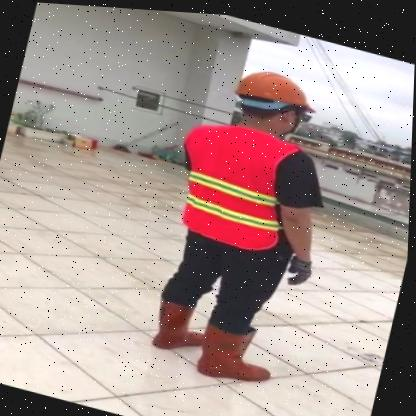person: (136, 51, 329, 371)
